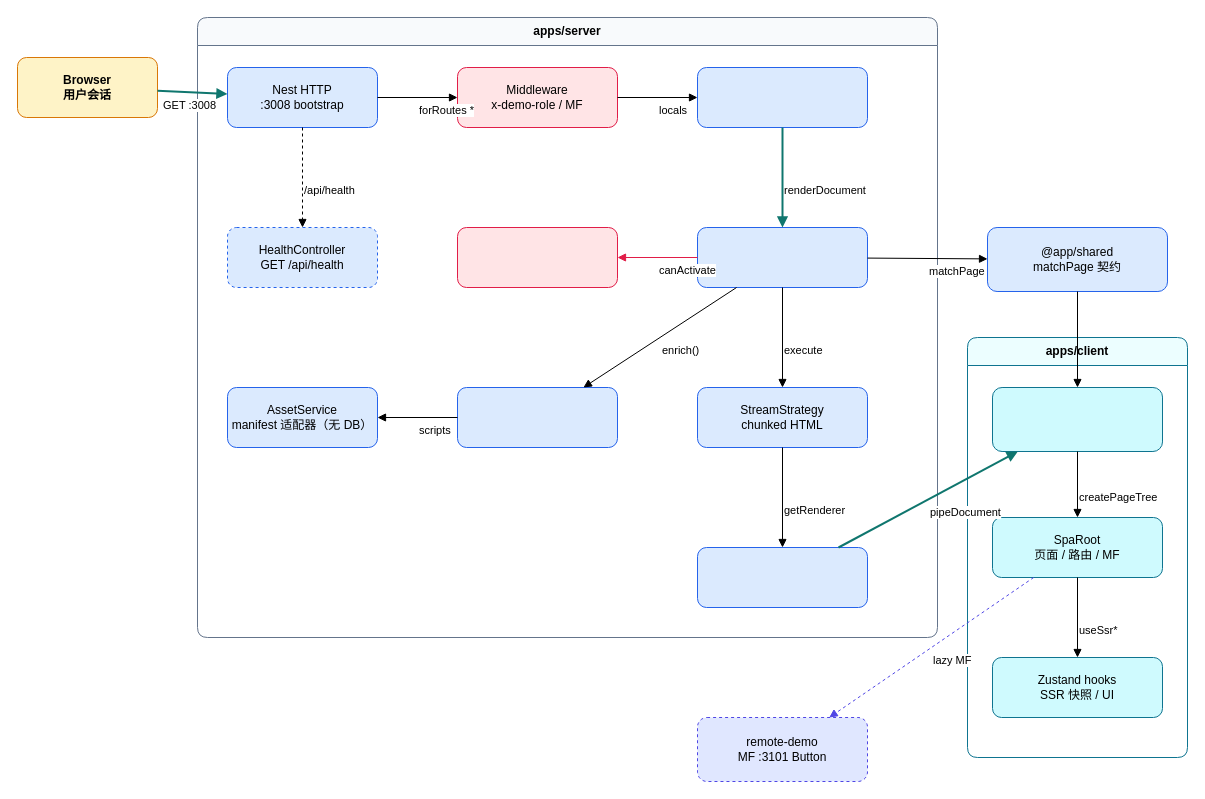
Some shapes in this 1205 by 799 pixel diagram are drawn without their labels. Here are the shapes that lost their labels. From the top down, the centre of each, then its label:
(782,97): SsrController ALL /*
(537,257): RenderGuards SpaPath / Access
(782,257): PageRenderService 编排文档流
(537,417): Enrichers MF / script / state
(1077,419): pipeDocument ssr.mjs React 流
(782,577): RendererLoader 动态 import ssr.mjs
